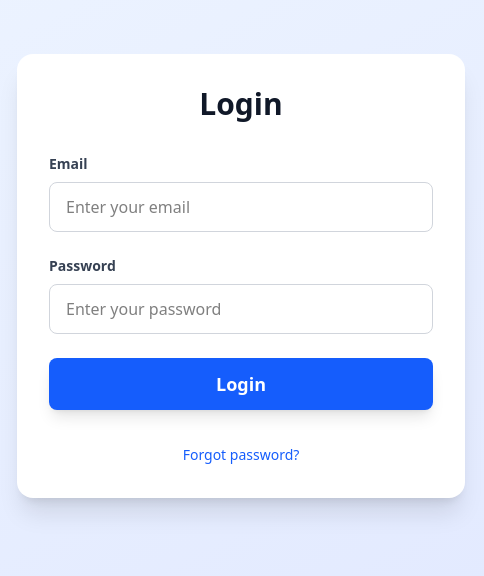
Test case: LoginForm › shows error for incorrect password
Type "test@example.com" into the field labelled "Email". click: (241, 207)
box: [49, 182, 433, 232]
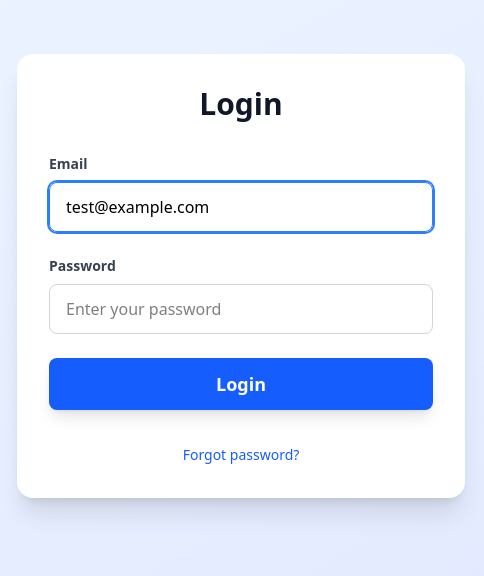
Type "WrongPass123!" into the password field labelled "Password". click: (241, 309)
box: [49, 284, 433, 334]
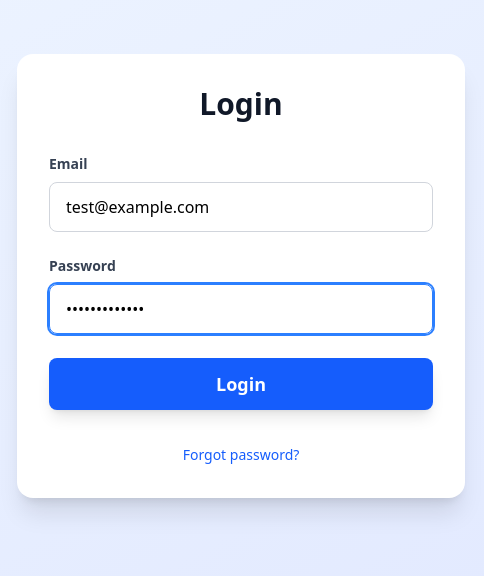
Click the button "Login". click: (241, 384)
box: [49, 358, 433, 410]
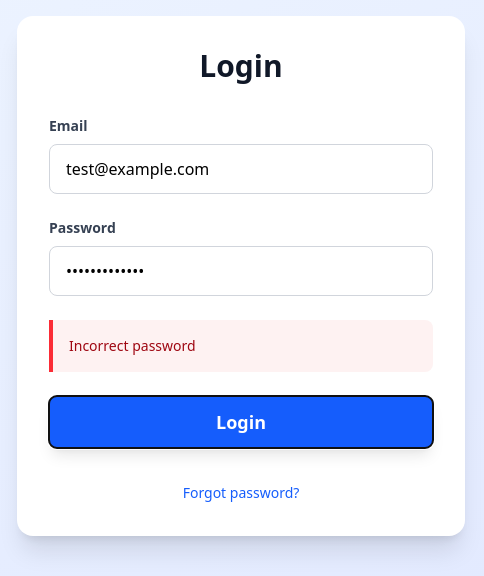
Check: the text "Incorrect password" is shown, box [69, 336, 196, 355]
